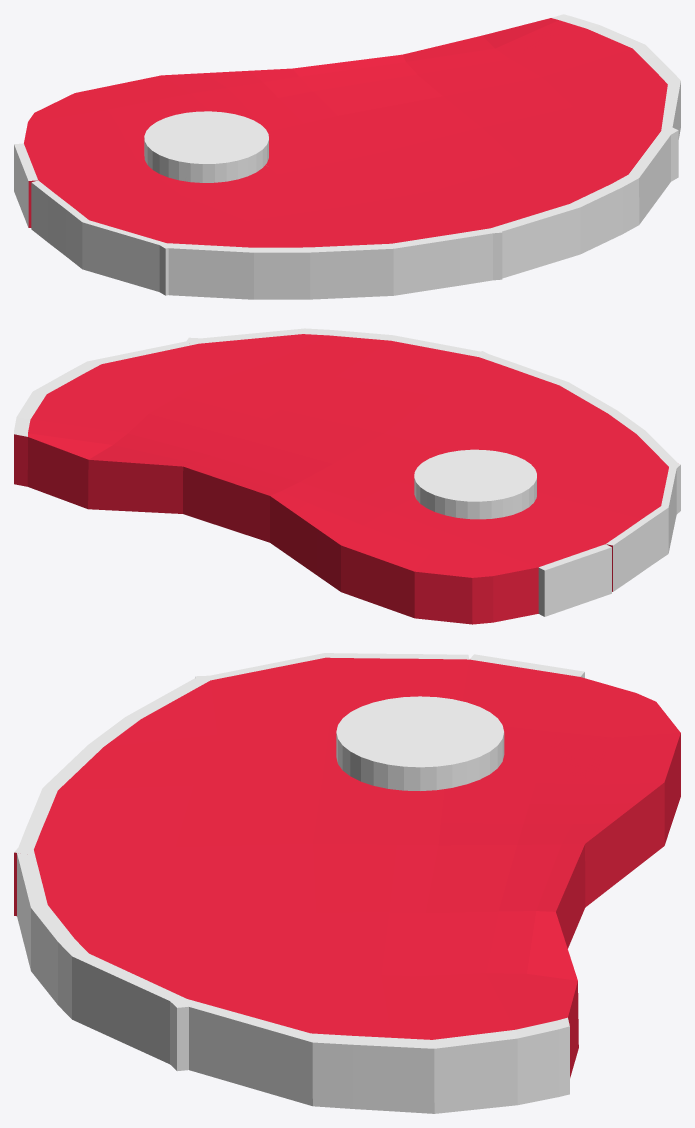
Rendered from carne.fbx.
3 renders of one model, top to bottom at view 1: azimuth 30°, elevation 25°; view 2: azimuth 150°, elevation 25°; view 3: azimuth 270°, elevation 25°, orthographic. The views are drawn at different scales.
Parts seen in each view (by area): view 1: Cube.001; view 2: Cube.001; view 3: Cube.001.
Boxes of the visible parts, <box> form: Cube.001: <box>14,14,680,299</box>; Cube.001: <box>14,328,680,624</box>; Cube.001: <box>14,653,680,1113</box>.
Size of the model in its own units: 195 by 22.31 by 139.
